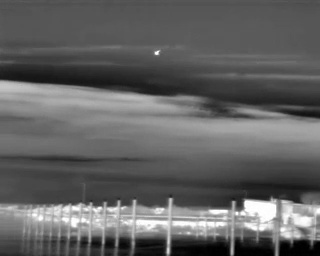BIRD: (152, 46, 163, 59)
